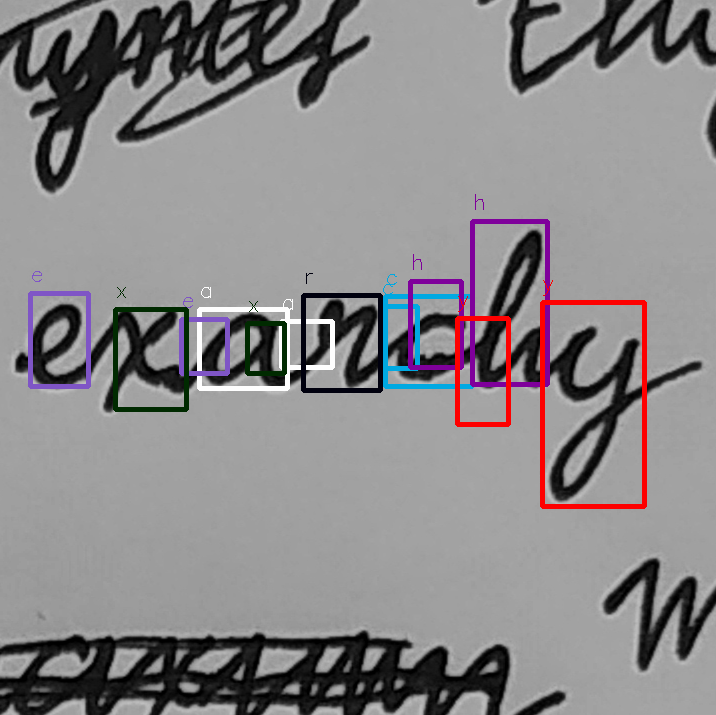a: (192, 307, 292, 393)
c: (390, 310, 470, 384)
e: (24, 298, 91, 394)
h: (472, 226, 550, 392)
r: (303, 292, 387, 395)
x: (97, 303, 183, 420)
y: (543, 321, 643, 506)
